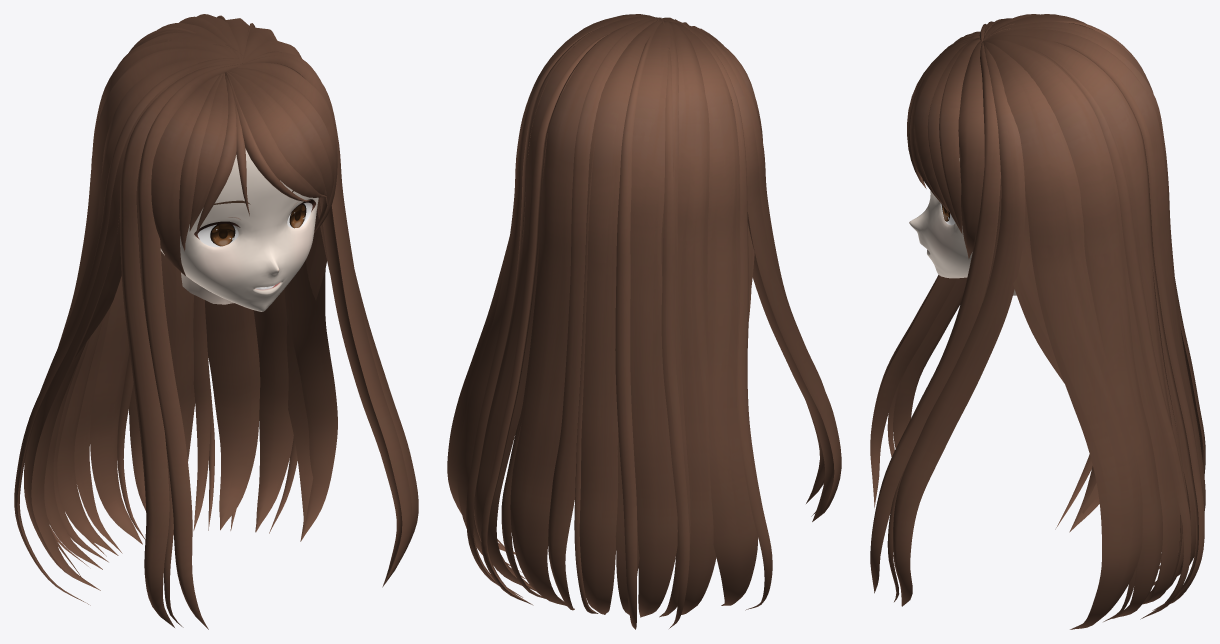
The model's file is qingheng-head.glb.
3 renders of one model, left to right at view 1: azimuth 30°, elevation 25°; view 2: azimuth 150°, elevation 25°; view 3: azimuth 270°, elevation 25°, orthographic.
Visible parts, largest first — view 1: Hair, Face; view 2: Hair; view 3: Hair, Face.
Boxes of the visible parts, x1,y1,x2,y2 form: Hair: (14,14,418,629); Face: (160,148,318,311); Hair: (447,14,841,629); Hair: (870,14,1205,629); Face: (909,158,972,278).
Bounding box in the file's own units: 0.2758 × 0.4584 × 0.2483.
Materials: 10 (10 with a texture image).
